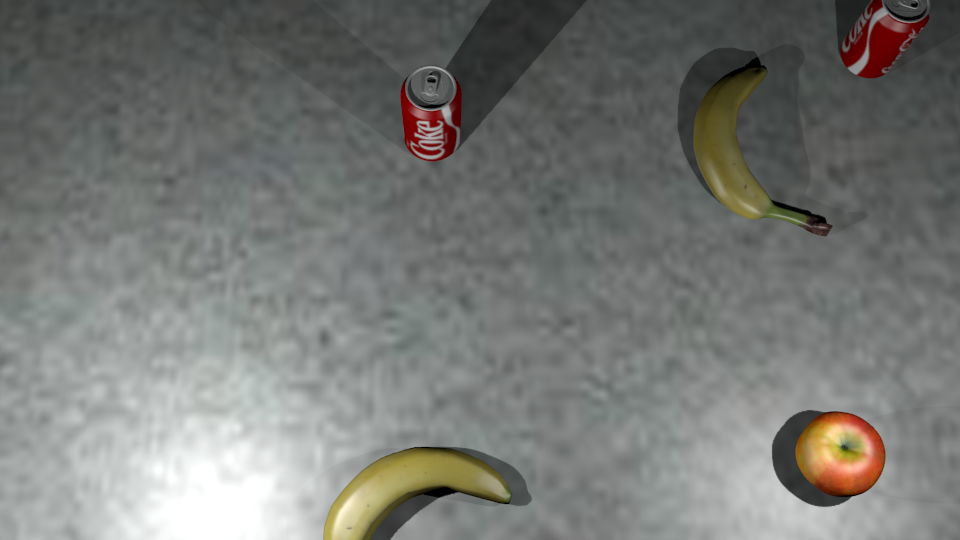apple: (796, 413, 886, 495)
banana: (694, 71, 833, 237), (324, 449, 513, 540)
cola_can: (841, 1, 929, 79), (401, 66, 462, 162)
